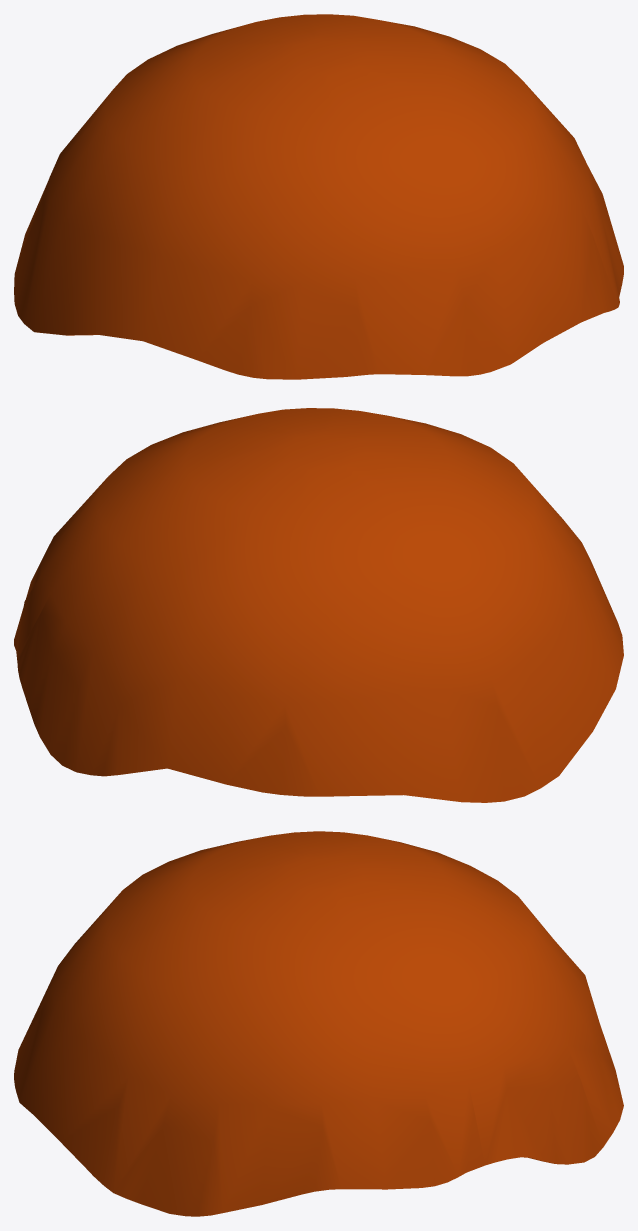
Rendered from Ice Cream Chocolate Brown.fbx.
The picture shows the model from 3 angles, top to bottom: view 1: azimuth 30°, elevation 25°; view 2: azimuth 150°, elevation 25°; view 3: azimuth 270°, elevation 25°; orthographic projection. The views are drawn at different scales.
Visible parts, largest first — view 1: Ice Cream Chocolate Brown; view 2: Ice Cream Chocolate Brown; view 3: Ice Cream Chocolate Brown.
Part boxes in pixels (left/top/right/bottom): Ice Cream Chocolate Brown: left=14, top=14, right=623, bottom=379; Ice Cream Chocolate Brown: left=14, top=408, right=623, bottom=802; Ice Cream Chocolate Brown: left=14, top=831, right=623, bottom=1216.
Bounding box in the file's own units: 0.4558 × 0.2021 × 0.4643.
